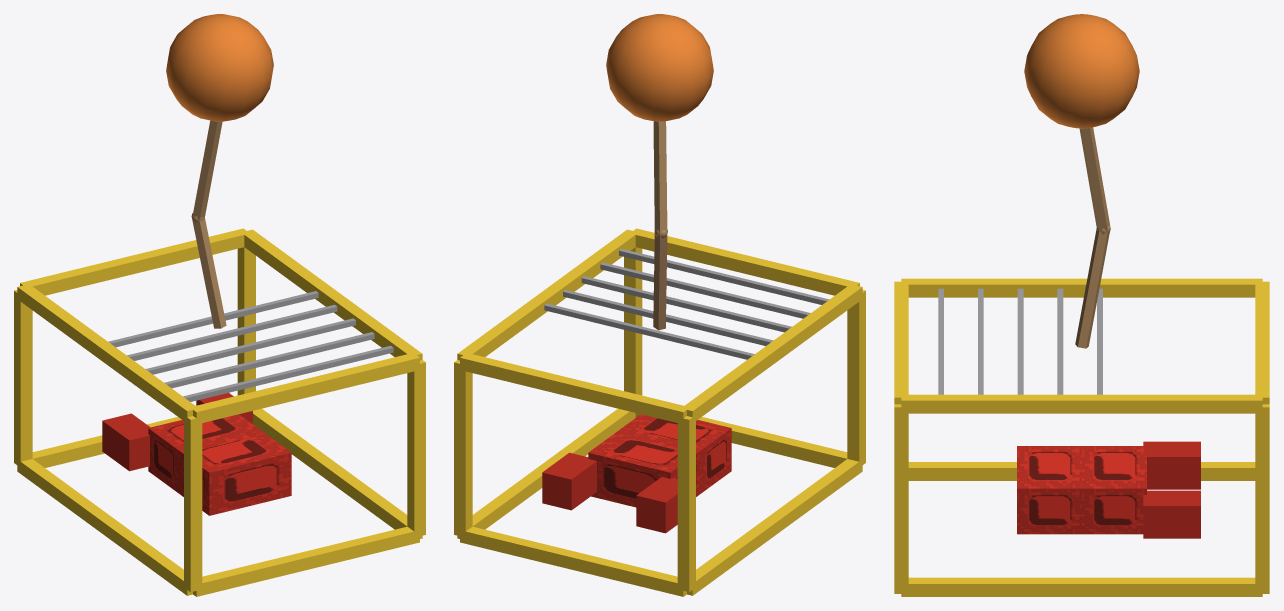
The model's file is CrabTrap.glb.
The picture shows the model from 3 angles, left to right: view 1: azimuth 30°, elevation 25°; view 2: azimuth 150°, elevation 25°; view 3: azimuth 270°, elevation 25°; orthographic projection. The views are drawn at different scales.
Visible parts, largest first — view 1: CrabTrap; view 2: CrabTrap; view 3: CrabTrap.
Part boxes in pixels (x1=…): CrabTrap: x1=14, y1=14, x2=425, y2=596; CrabTrap: x1=454, y1=14, x2=865, y2=596; CrabTrap: x1=894, y1=14, x2=1269, y2=596.
Bounding box in the file's own units: 4 × 7.9 × 5.2.
Materials: 1 (1 with a texture image).
